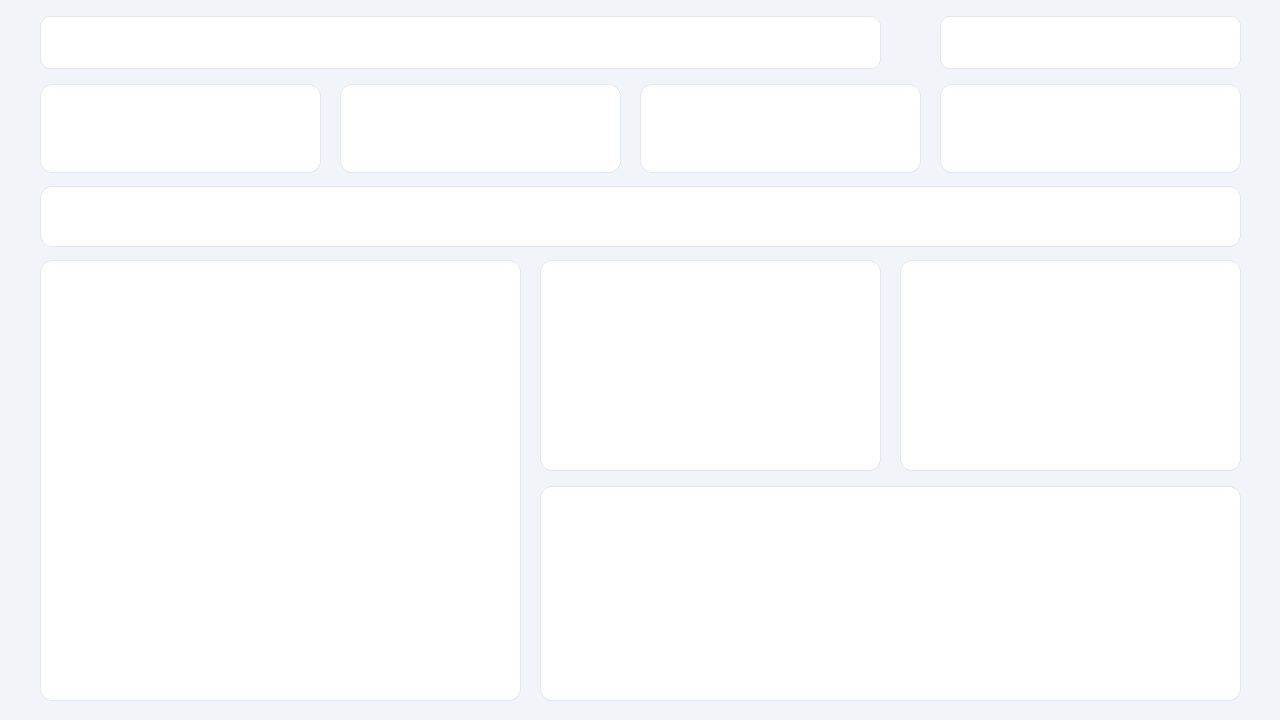

This screenshot's page, from the dashboard's own definition file:
{"tool":"powerbi","page":{"name":"EV Telemetry & Battery Health","canvas":[1280,720],"ordinal":0},"visuals":[{"type":"slicer","fields":{"Values":["condition.Component_Condition"]},"box":[922.5,25,286.2,75],"z":1000},{"type":"card","fields":{"Fields":["ev_telemetry_dataset.Total Vehicles"]},"box":[137.5,115,352.5,132.5],"z":2000},{"type":"lineChart","fields":{"Category":["ev_telemetry_dataset.Mileage Group"],"Y":["ev_telemetry_dataset.Avg SoH"],"Y2":["ev_telemetry_dataset.Avg Core Temp"]},"box":[150,452.5,340,220],"z":4000},{"type":"image","box":[514.1,88.2,340,585],"z":5000},{"type":"ribbonChart","fields":{"Category":["ev_telemetry_dataset.Vehicle_Model"],"Series":["ev_telemetry_dataset.Fleet_Operator"],"Y":["ev_telemetry_dataset.Total Vehicles"]},"box":[870,131.2,338.8,212.5],"z":6000},{"type":"hundredPercentStackedColumnChart","fields":{"Category":["ev_telemetry_dataset.Mileage Group"],"Series":["ev_telemetry_dataset.Diagnostic_Risk_Tier"],"Y":["ev_telemetry_dataset.Total Vehicles"]},"box":[870,385,338.8,278.8],"z":7000},{"type":"advancedSlicerVisual","fields":{"Values":["component.Icon_URL"]},"box":[52.9,167.8,76,369.3],"z":8000}]}

Visuals, with their boxes in screenshot pixels (x1, y1, x2, y2), scaled from the page's 1280x720 canvas onto the 1280x720 screenshot:
slicer - condition.Component_Condition: 922 25 1209 100
card - ev_telemetry_dataset.Total Vehicles: 138 115 490 248
lineChart - ev_telemetry_dataset.Mileage Group x ev_telemetry_dataset.Avg SoH: 150 452 490 672
image: 514 88 854 673
ribbonChart - ev_telemetry_dataset.Vehicle_Model x ev_telemetry_dataset.Fleet_Operator: 870 131 1209 344
hundredPercentStackedColumnChart - ev_telemetry_dataset.Mileage Group x ev_telemetry_dataset.Diagnostic_Risk_Tier: 870 385 1209 664
advancedSlicerVisual - component.Icon_URL: 53 168 129 537
